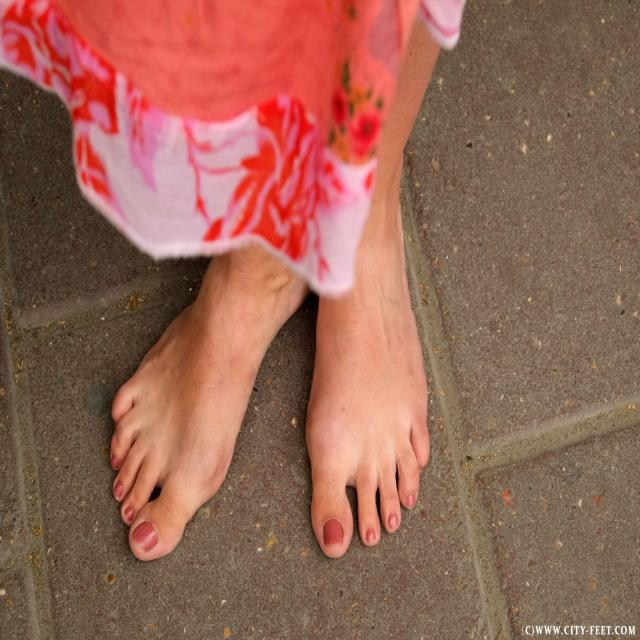Barefoots: (110, 214, 321, 562), (306, 157, 431, 558)
